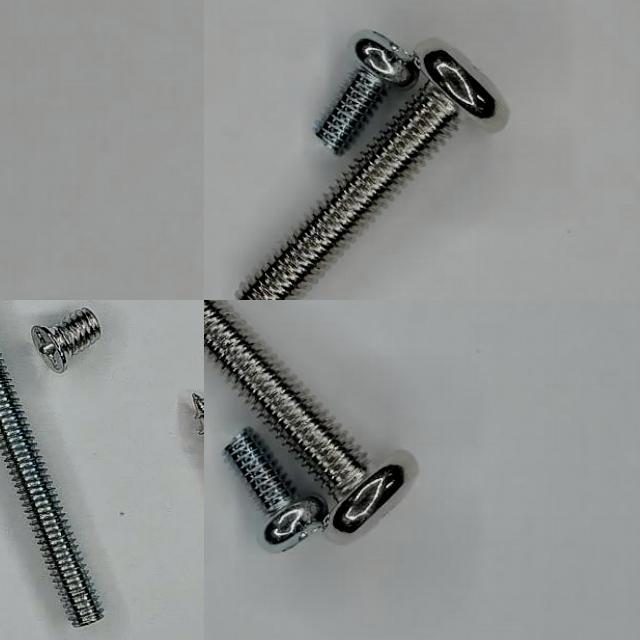Screw: (238, 39, 508, 300), (204, 300, 405, 534), (0, 354, 104, 627), (224, 428, 328, 551), (316, 29, 418, 154), (32, 308, 101, 372)
